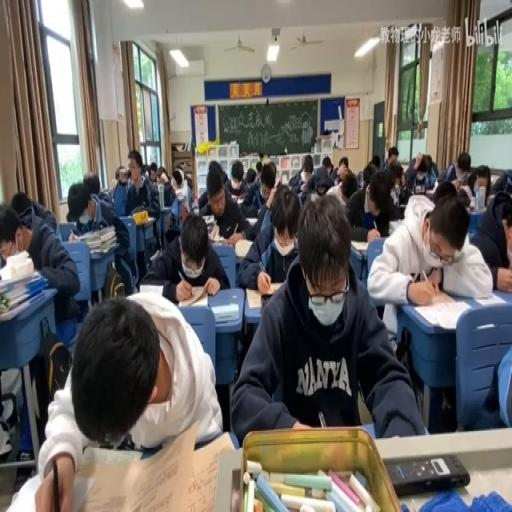calculator: (411, 294, 474, 330), (83, 445, 141, 465), (471, 288, 507, 306), (178, 289, 210, 307), (210, 302, 238, 322), (352, 238, 378, 253), (210, 229, 232, 245), (234, 238, 252, 256), (141, 283, 163, 294), (133, 215, 154, 226), (387, 219, 402, 233), (202, 213, 214, 225), (425, 188, 437, 200), (245, 214, 258, 224), (308, 192, 318, 202), (192, 202, 198, 213)
paper: (227, 191, 419, 442), (33, 286, 218, 510), (1, 198, 81, 331), (69, 176, 137, 296), (144, 209, 228, 302), (462, 270, 510, 428), (467, 186, 512, 286), (346, 164, 396, 238), (247, 164, 283, 240), (122, 151, 158, 219), (195, 160, 227, 214), (402, 148, 437, 192), (155, 165, 179, 228), (288, 154, 319, 196), (327, 162, 357, 205), (438, 151, 472, 186), (222, 159, 246, 205), (387, 162, 406, 202), (470, 164, 490, 202), (488, 171, 511, 202), (431, 181, 457, 202), (83, 171, 100, 196), (362, 164, 374, 188), (179, 202, 190, 225), (457, 189, 470, 206), (149, 160, 158, 180), (322, 155, 332, 172), (388, 148, 398, 165), (370, 155, 380, 171), (245, 168, 255, 183), (114, 164, 122, 180), (338, 160, 347, 174), (261, 150, 270, 164), (177, 174, 185, 188), (256, 160, 262, 178), (317, 183, 326, 195), (185, 174, 192, 189), (140, 162, 146, 175)
person: (384, 452, 470, 494), (230, 466, 242, 510), (260, 293, 274, 309)
